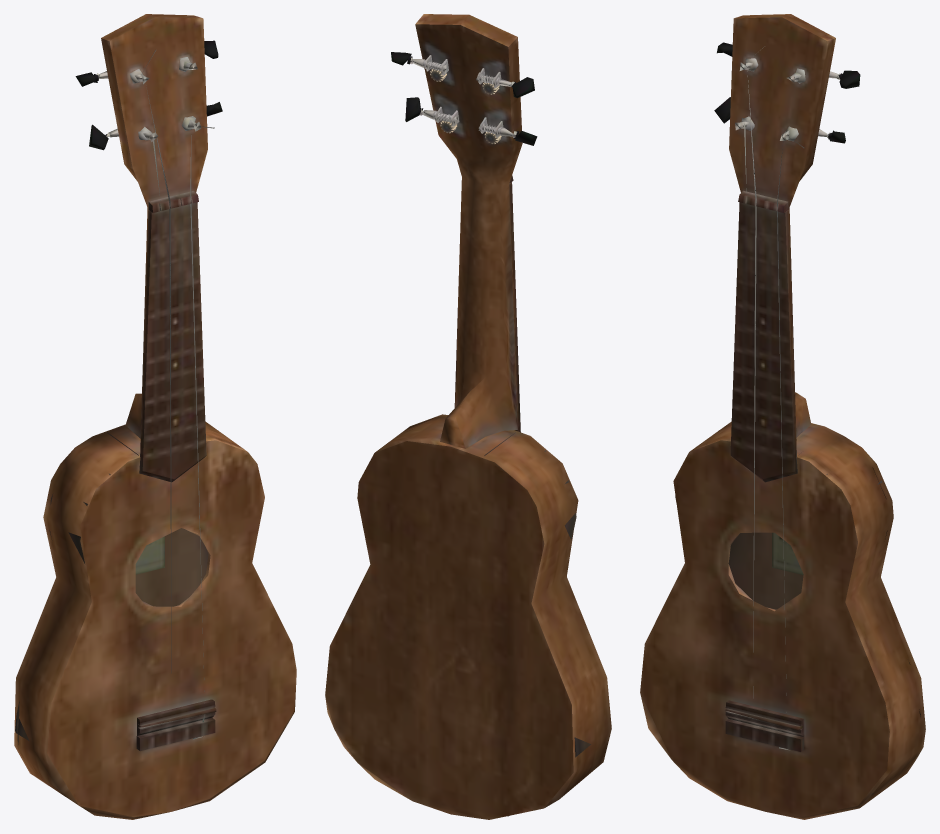
File: Ukulele_01.lite.glb
The picture shows the model from 3 angles, left to right: view 1: azimuth 30°, elevation 25°; view 2: azimuth 150°, elevation 25°; view 3: azimuth 330°, elevation 25°; orthographic projection.
Visible parts, largest first — view 1: Ukulele_01; view 2: Ukulele_01; view 3: Ukulele_01.
Boxes of the visible parts, x1=… form: Ukulele_01: x1=14, y1=14, x2=296, y2=819; Ukulele_01: x1=325, y1=14, x2=611, y2=819; Ukulele_01: x1=640, y1=14, x2=925, y2=819.
Size of the model in its own units: 0.1758 by 0.5267 by 0.0503.
Materials: 1 (1 with a texture image).
